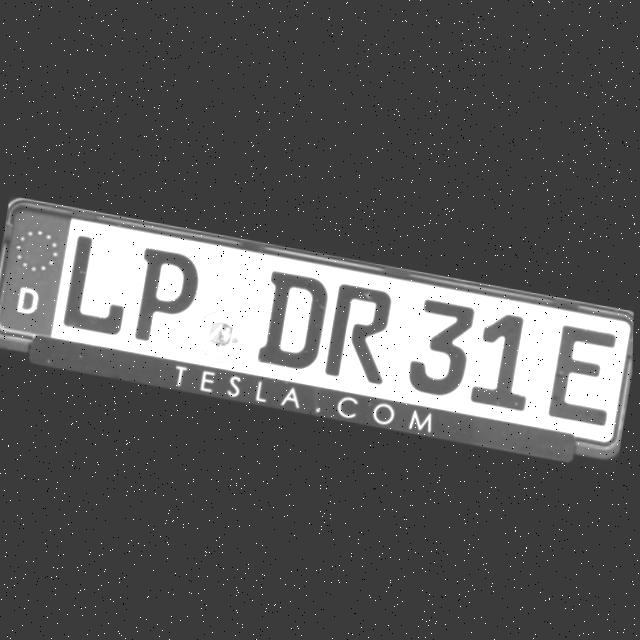license-plates: (0, 208, 634, 454)
